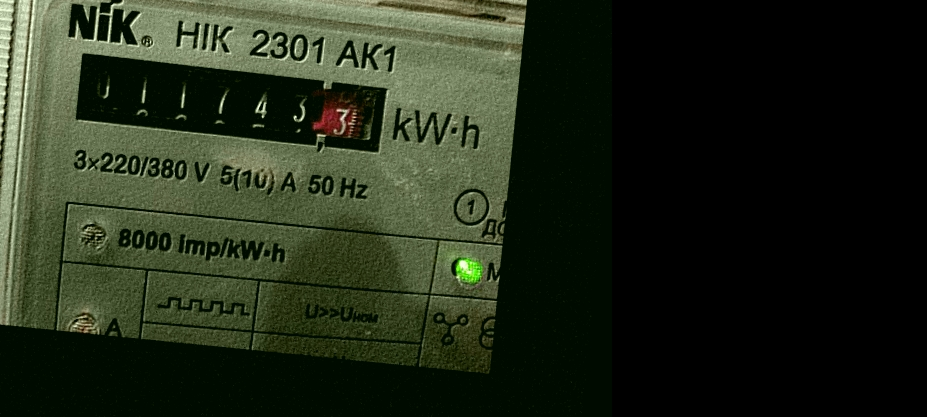0: (92, 66, 114, 103)
1: (175, 75, 193, 110), (138, 71, 151, 105)
3: (288, 89, 310, 126), (330, 106, 352, 140)
4: (251, 86, 271, 121)
7: (212, 81, 233, 116)
screen: (60, 40, 401, 167)
